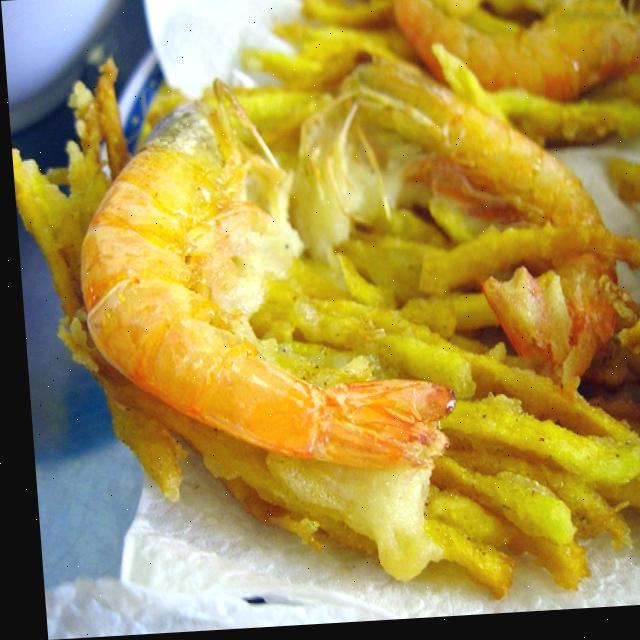炸货点心: (9, 0, 640, 640)
熟制海鲜: (9, 0, 640, 640)
